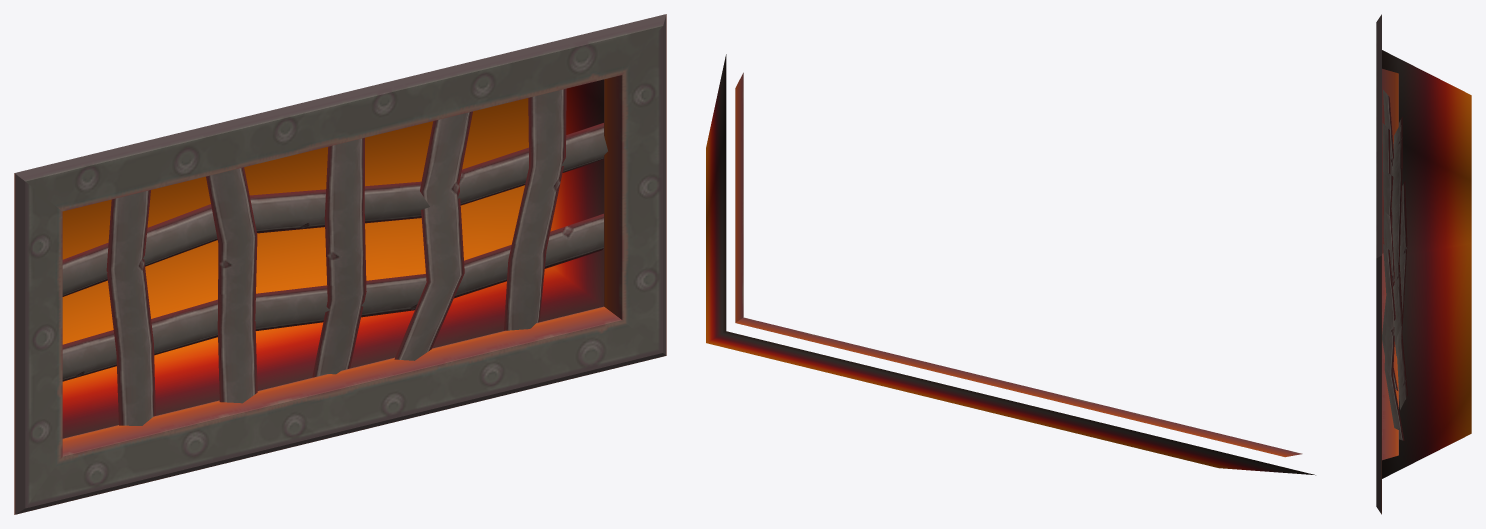
File: tile_4x2.glb
3 renders of one model, left to right at view 1: azimuth 30°, elevation 25°; view 2: azimuth 150°, elevation 25°; view 3: azimuth 270°, elevation 25°, orthographic. The views are drawn at different scales.
Visible parts, largest first — view 1: flame_grates.tile_4x2-MeshNodes["flame_pit_4x2"], flame_grates.tile_4x2-MeshNodes["flame_pit_4x2_bars"], flame_grates.tile_4x2-MeshNodes["flame_pit_4x2_pit"]; view 2: flame_grates.tile_4x2-MeshNodes["flame_pit_4x2_pit"], flame_grates.tile_4x2-MeshNodes["flame_pit_4x2"]; view 3: flame_grates.tile_4x2-MeshNodes["flame_pit_4x2_pit"], flame_grates.tile_4x2-MeshNodes["flame_pit_4x2_bars"], flame_grates.tile_4x2-MeshNodes["flame_pit_4x2"].
Part boxes in pixels (<box>): flame_grates.tile_4x2-MeshNodes["flame_pit_4x2"]: <box>14,14,666,514</box>; flame_grates.tile_4x2-MeshNodes["flame_pit_4x2_bars"]: <box>62,88,607,425</box>; flame_grates.tile_4x2-MeshNodes["flame_pit_4x2_pit"]: <box>62,79,603,438</box>; flame_grates.tile_4x2-MeshNodes["flame_pit_4x2_pit"]: <box>706,54,1315,475</box>; flame_grates.tile_4x2-MeshNodes["flame_pit_4x2"]: <box>735,72,1302,457</box>; flame_grates.tile_4x2-MeshNodes["flame_pit_4x2_pit"]: <box>1382,50,1471,478</box>; flame_grates.tile_4x2-MeshNodes["flame_pit_4x2_bars"]: <box>1382,90,1407,440</box>; flame_grates.tile_4x2-MeshNodes["flame_pit_4x2"]: <box>1376,14,1398,514</box>.
Bounding box in the file's own units: 4.01 × 2.01 × 0.6696.
3 materials, 3 textured.
